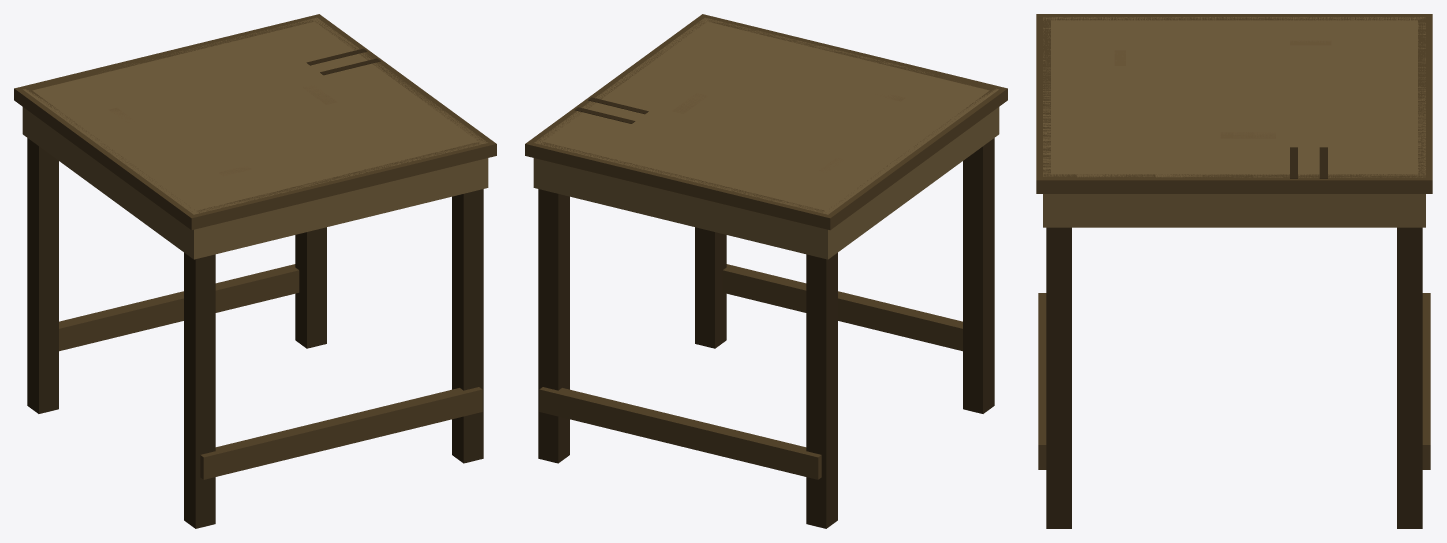
Rendered from CMU3DRMCTableBrown.glb.
3 renders of one model, left to right at view 1: azimuth 30°, elevation 25°; view 2: azimuth 150°, elevation 25°; view 3: azimuth 270°, elevation 25°, orthographic. The views are drawn at different scales.
Parts seen in each view (by area): view 1: tabletop, frame leg (×4), lower stretcher (×2), recessed edge trim (×4); view 2: tabletop, frame leg (×4), lower stretcher (×2), recessed edge trim (×4); view 3: tabletop, frame leg (×2), recessed edge trim (×4), lower stretcher (×2).
Boxes of the visible parts, x1=… form: tabletop: x1=22, y1=17, x2=488, y2=259; frame leg (×4): x1=27, y1=138, x2=483, y2=528; lower stretcher (×2): x1=59, y1=264, x2=482, y2=479; recessed edge trim (×4): x1=14, y1=14, x2=496, y2=230; tabletop: x1=533, y1=17, x2=999, y2=259; frame leg (×4): x1=538, y1=138, x2=994, y2=528; lower stretcher (×2): x1=539, y1=264, x2=962, y2=479; recessed edge trim (×4): x1=525, y1=14, x2=1007, y2=230; tabletop: x1=1043, y1=17, x2=1425, y2=227; frame leg (×2): x1=1046, y1=227, x2=1422, y2=528; recessed edge trim (×4): x1=1036, y1=14, x2=1432, y2=193; lower stretcher (×2): x1=1038, y1=293, x2=1430, y2=469.
Size of the model in its own units: 0.854 by 0.846 by 0.86.
